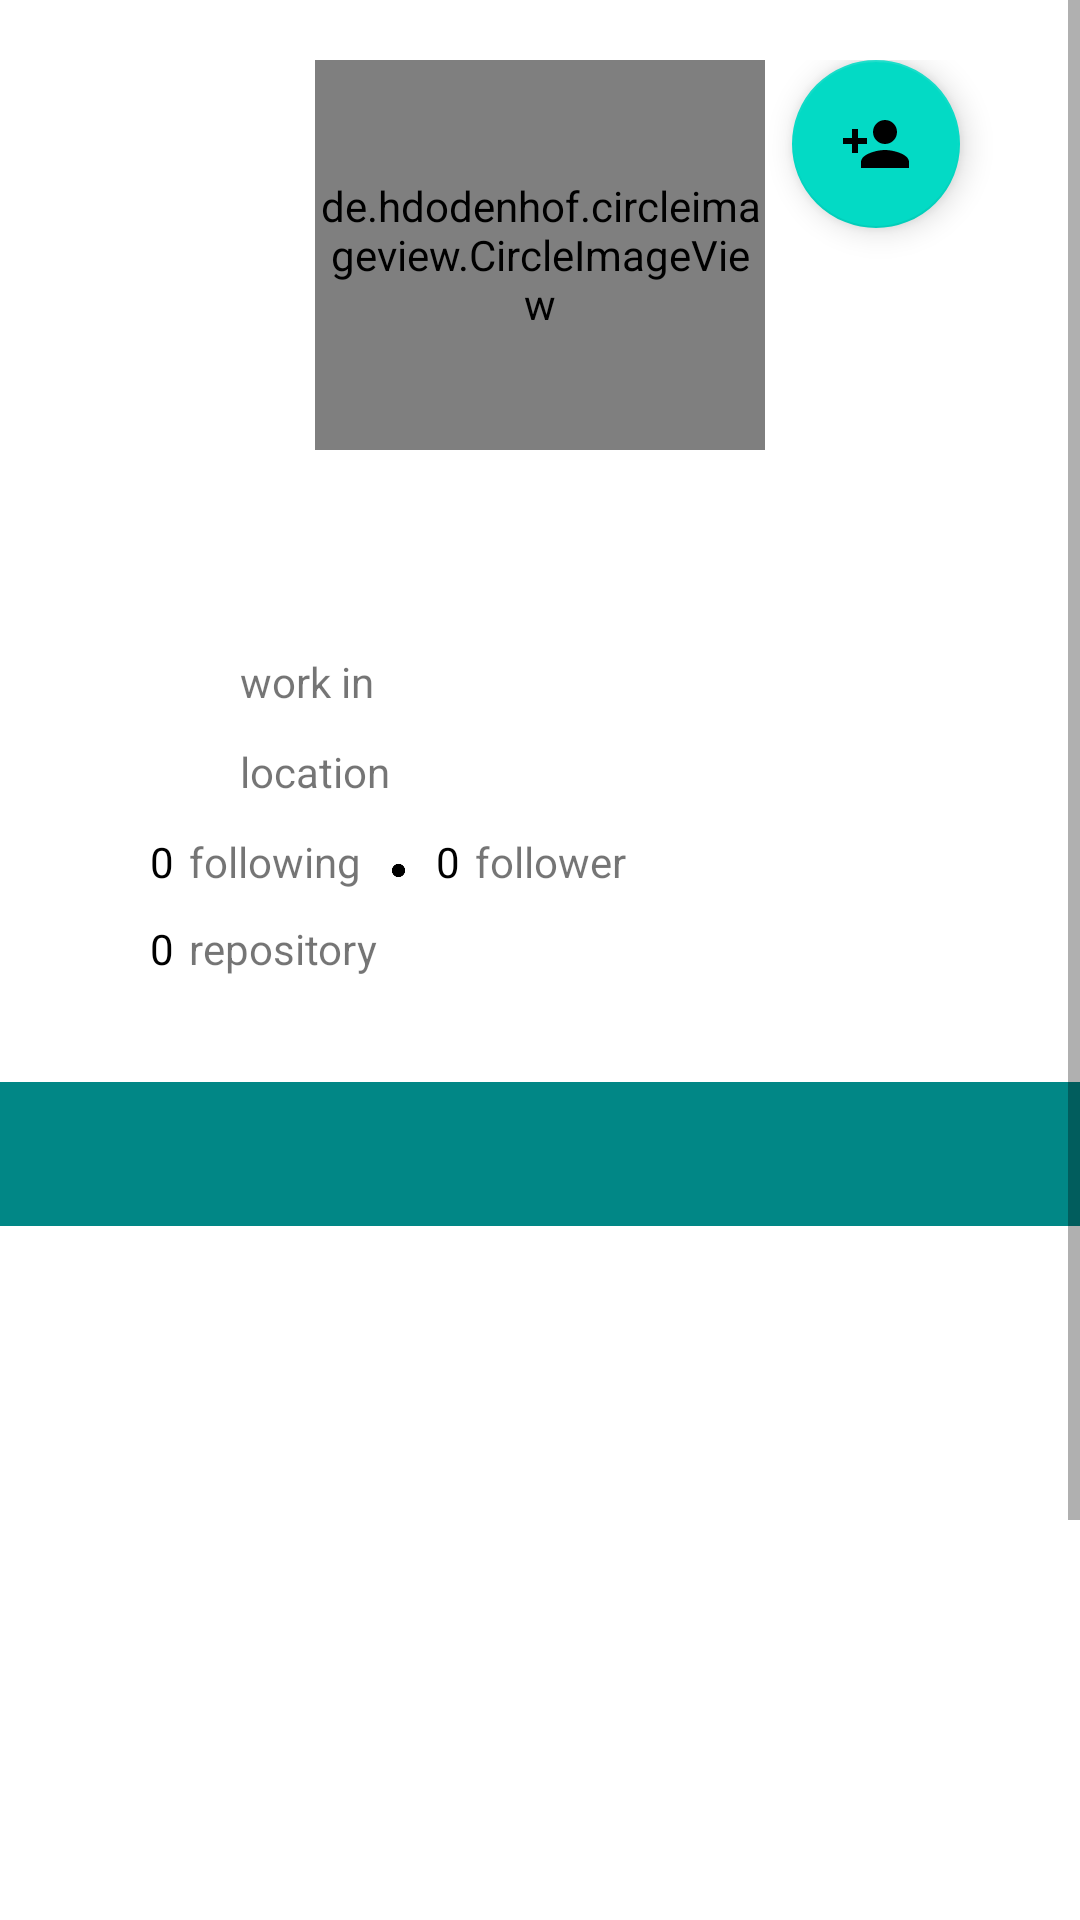

Screen size 1080*1920. Icon name, then its box in pixels as (x1, y1, x2, y2):
person add: (792, 60, 960, 228)
